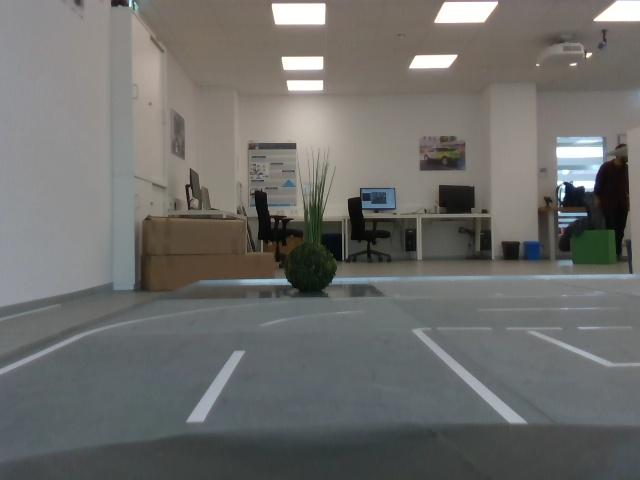potted plant: (297, 147, 336, 242), (284, 245, 337, 295)
